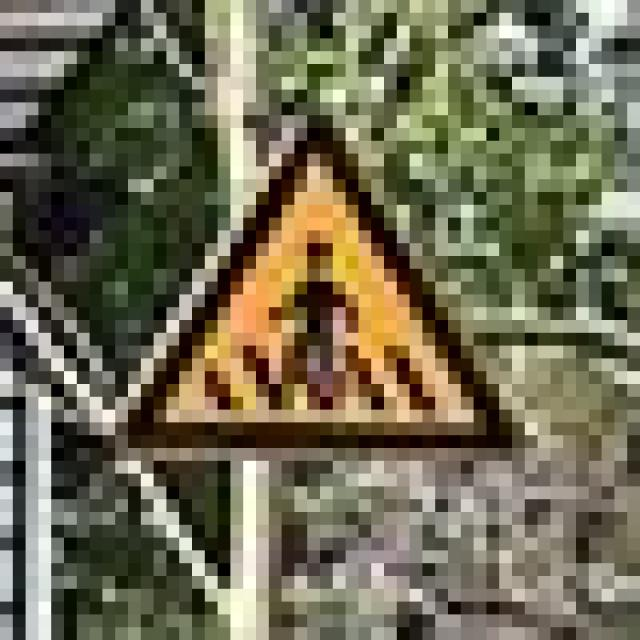pass_either_side: (90, 90, 524, 435)
